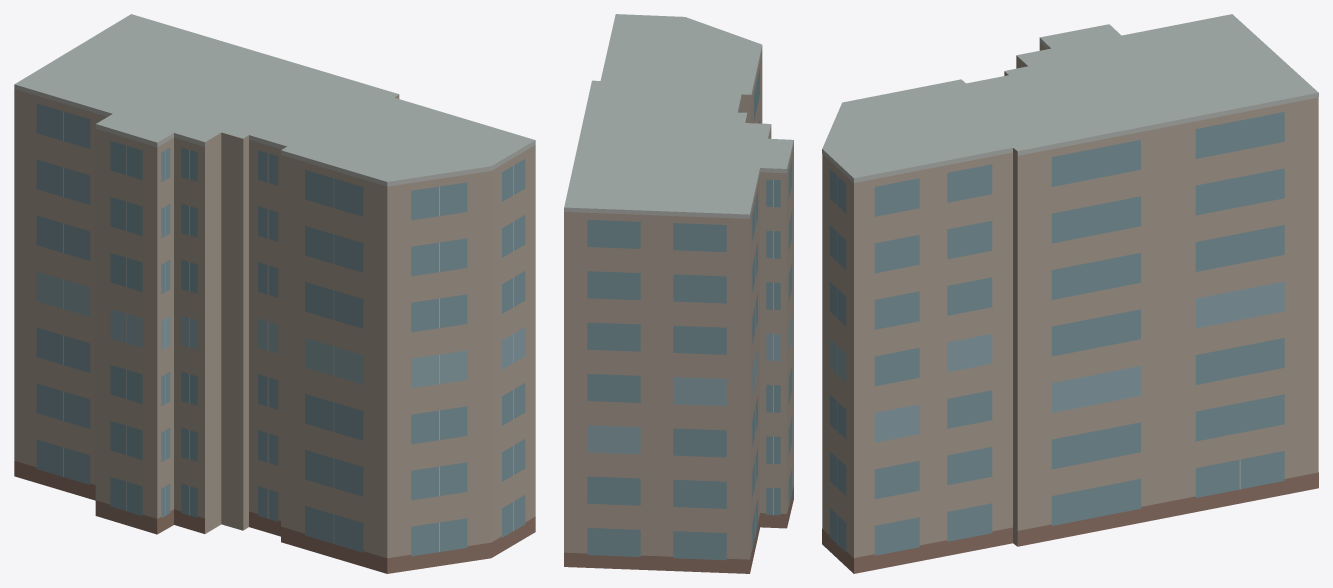
File: survey-upis-32529837.glb
3 renders of one model, left to right at view 1: azimuth 30°, elevation 25°; view 2: azimuth 150°, elevation 25°; view 3: azimuth 270°, elevation 25°, orthographic. The views are drawn at different scales.
Visible parts, largest first — view 1: survey-upis-32529837.tmp; view 2: survey-upis-32529837.tmp; view 3: survey-upis-32529837.tmp.
Boxes of the visible parts, <box> form: survey-upis-32529837.tmp: <box>14,14,535,573</box>; survey-upis-32529837.tmp: <box>564,14,793,573</box>; survey-upis-32529837.tmp: <box>822,14,1318,573</box>.
Bounding box in the file's own units: 18.19 × 20.4 × 23.22.
